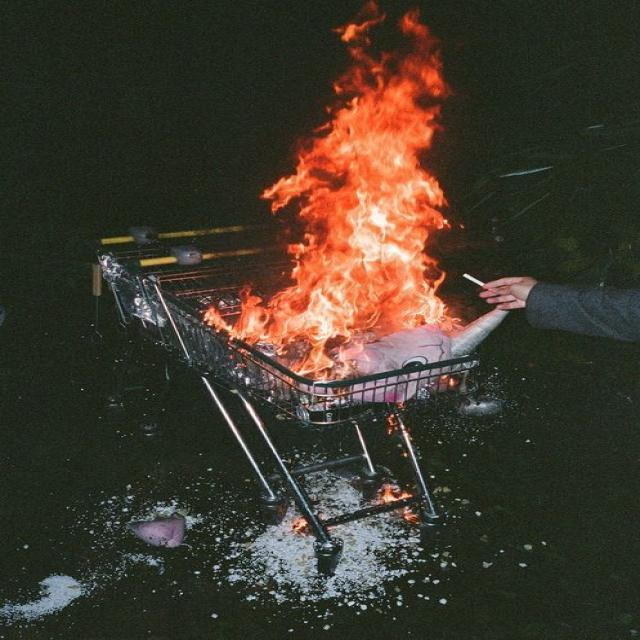Fire: (236, 67, 472, 366)
